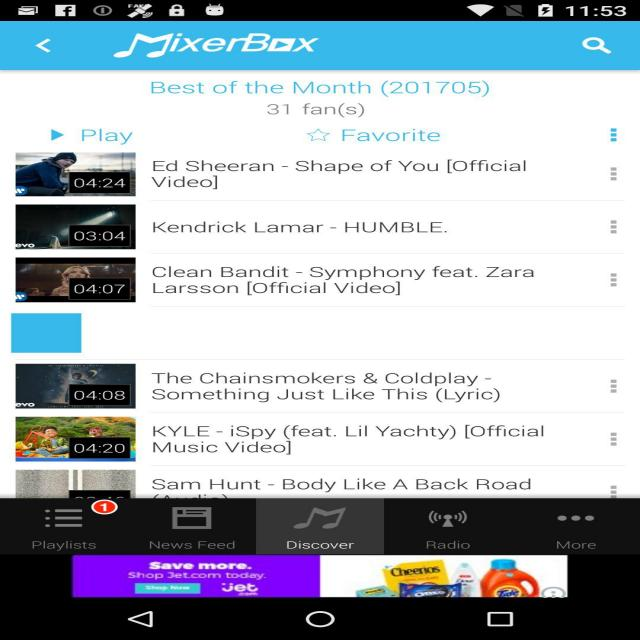button: (74, 554, 570, 599), (388, 501, 526, 552), (257, 498, 383, 553), (22, 501, 141, 552), (528, 499, 638, 554), (144, 501, 257, 554), (17, 255, 135, 302), (15, 203, 135, 248), (17, 364, 134, 410), (17, 152, 138, 196), (17, 417, 134, 462), (286, 121, 486, 146), (33, 120, 170, 150), (564, 33, 632, 67), (17, 30, 78, 59), (592, 372, 636, 406), (588, 427, 633, 456), (588, 268, 638, 293), (596, 213, 628, 240), (601, 163, 633, 188), (601, 123, 623, 152), (602, 481, 630, 501)
text: (115, 75, 540, 118), (140, 155, 543, 199), (140, 418, 550, 458), (147, 366, 529, 408), (151, 265, 545, 300), (79, 20, 364, 68), (146, 474, 553, 495), (146, 215, 457, 240)
